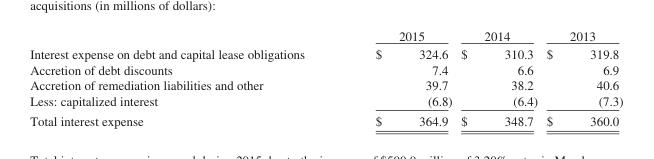table: (29, 28, 622, 128)
table column: (29, 28, 339, 128), (339, 28, 455, 128), (455, 28, 541, 128), (541, 28, 622, 128)
table column header: (29, 28, 622, 44)
table row: (29, 92, 622, 110), (29, 110, 622, 128), (29, 44, 622, 61), (29, 28, 622, 44), (29, 61, 622, 77), (29, 77, 622, 92)
